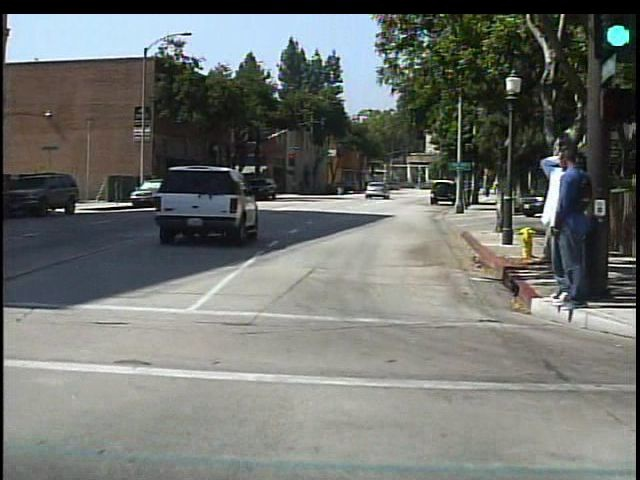person: (551, 148, 592, 312), (535, 146, 576, 304), (333, 176, 347, 196)
